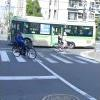crosswalks: (0, 49, 96, 63)
